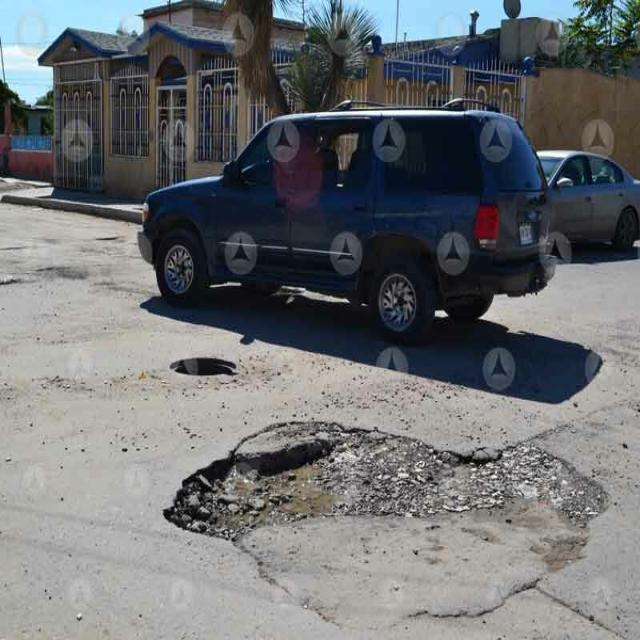Buraco: (162, 418, 612, 632), (0, 273, 23, 288)
